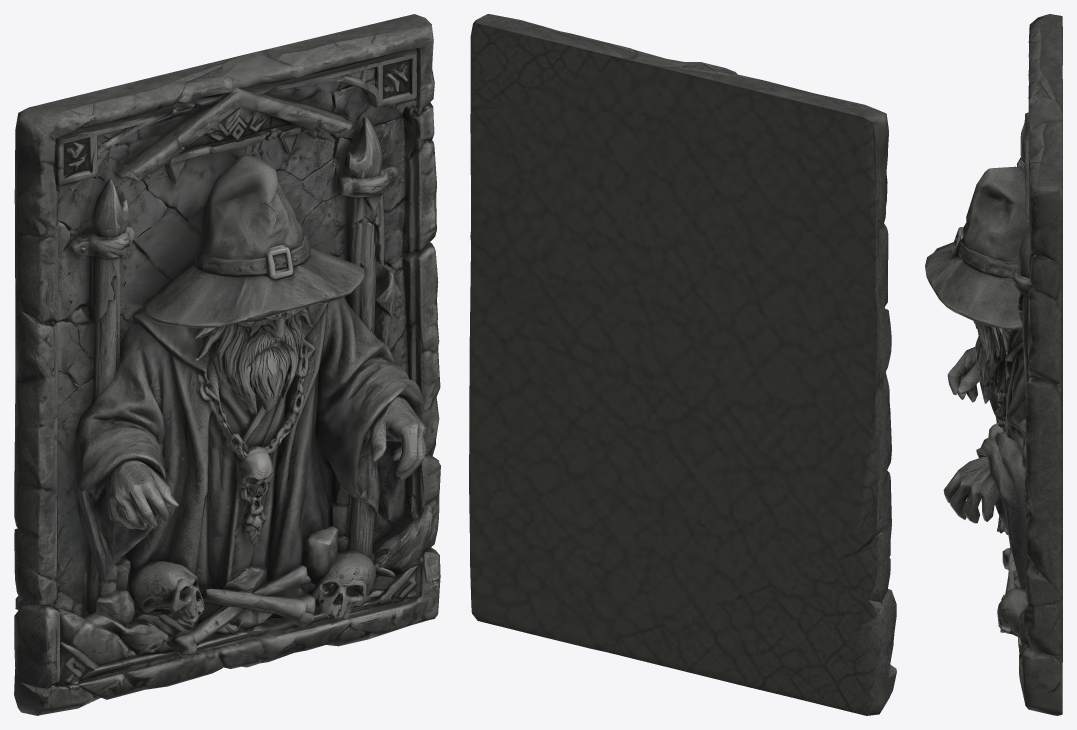
File: obj_deco_evil_wizard.glb
The picture shows the model from 3 angles, left to right: view 1: azimuth 30°, elevation 25°; view 2: azimuth 150°, elevation 25°; view 3: azimuth 270°, elevation 25°; orthographic projection. The views are drawn at different scales.
Visible parts, largest first — view 1: Mesh_0; view 2: Mesh_0; view 3: Mesh_0.
Part boxes in pixels (x1=…): Mesh_0: x1=14, y1=14, x2=440, y2=715; Mesh_0: x1=469, y1=14, x2=896, y2=715; Mesh_0: x1=925, y1=14, x2=1062, y2=715.
Bounding box in the file's own units: 1.38 × 1.9 × 0.4484.
Materials: 1 (1 with a texture image).
